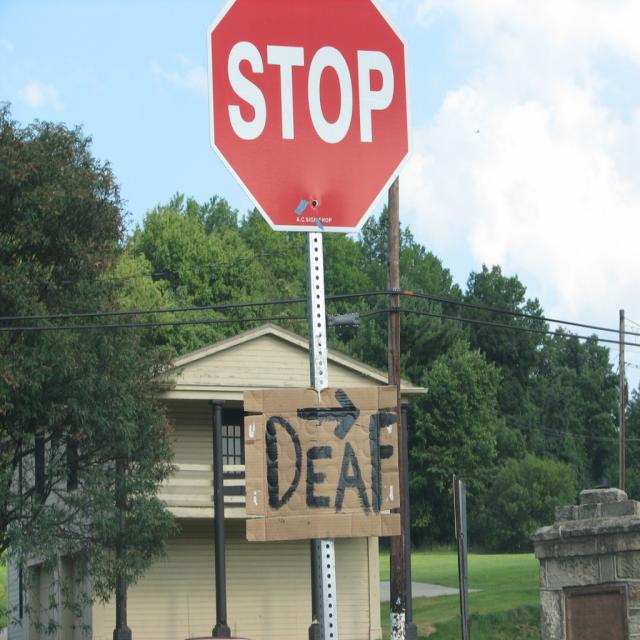Stop-sign: (209, 0, 415, 233)
